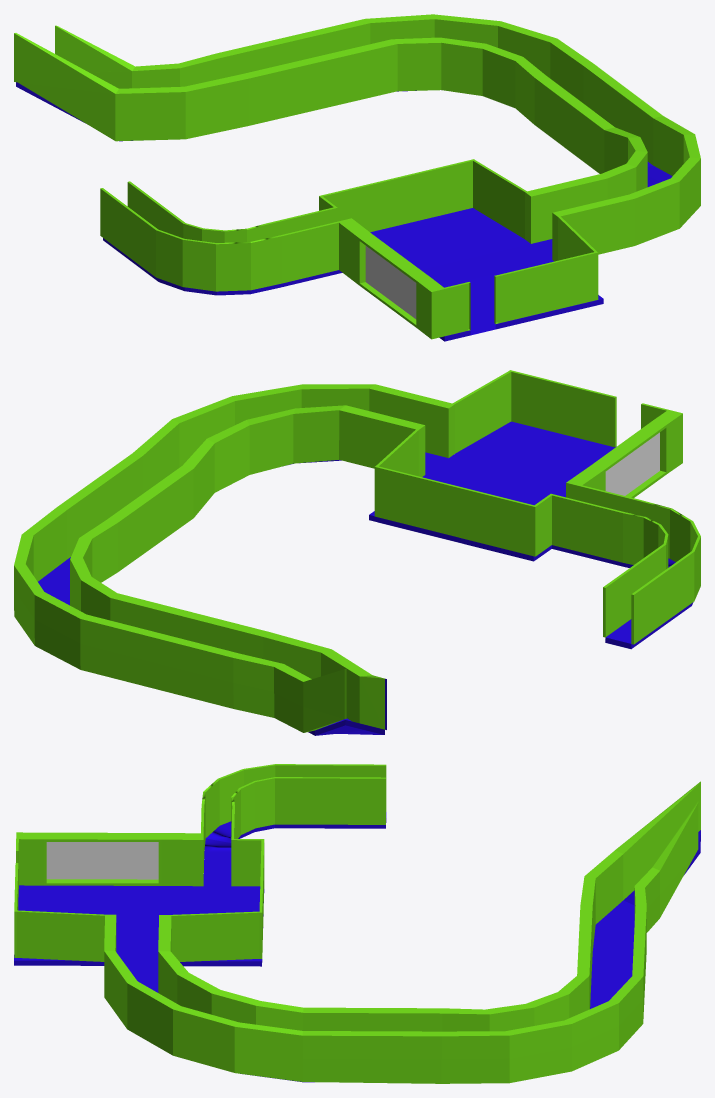
File: OfficeA_2.fbx
3 renders of one model, top to bottom at view 1: azimuth 30°, elevation 25°; view 2: azimuth 150°, elevation 25°; view 3: azimuth 270°, elevation 25°, orthographic. The views are drawn at different scales.
Parts seen in each view (by area): view 1: Cube.003; view 2: Cube.003; view 3: Cube.003.
Part boxes in pixels (x1,y1,x2,y2): Cube.003: [14, 14, 700, 341]; Cube.003: [14, 370, 700, 735]; Cube.003: [14, 764, 700, 1083].
Bounding box in the file's own units: 2126 × 369 × 2473.
